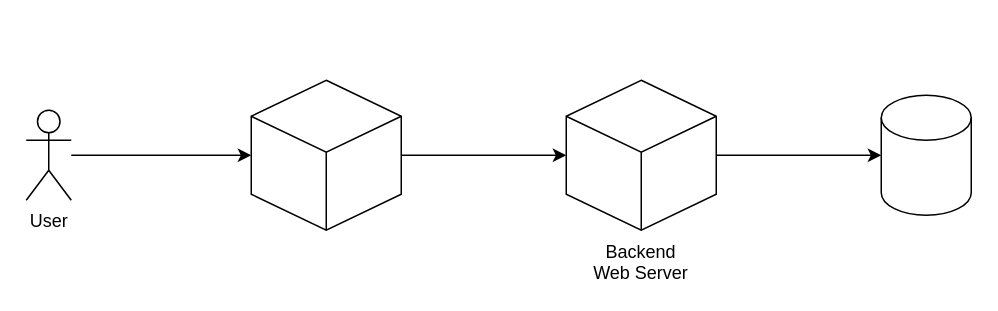
The diagram is 998 pixels wide and 311 high, and some of its shapes have lost their labels. The box of each missing label's shape, as (x1, y1, x2, y2) in pixels:
Database: (880, 94, 971, 215)
Frontend Web Server: (250, 79, 401, 230)
